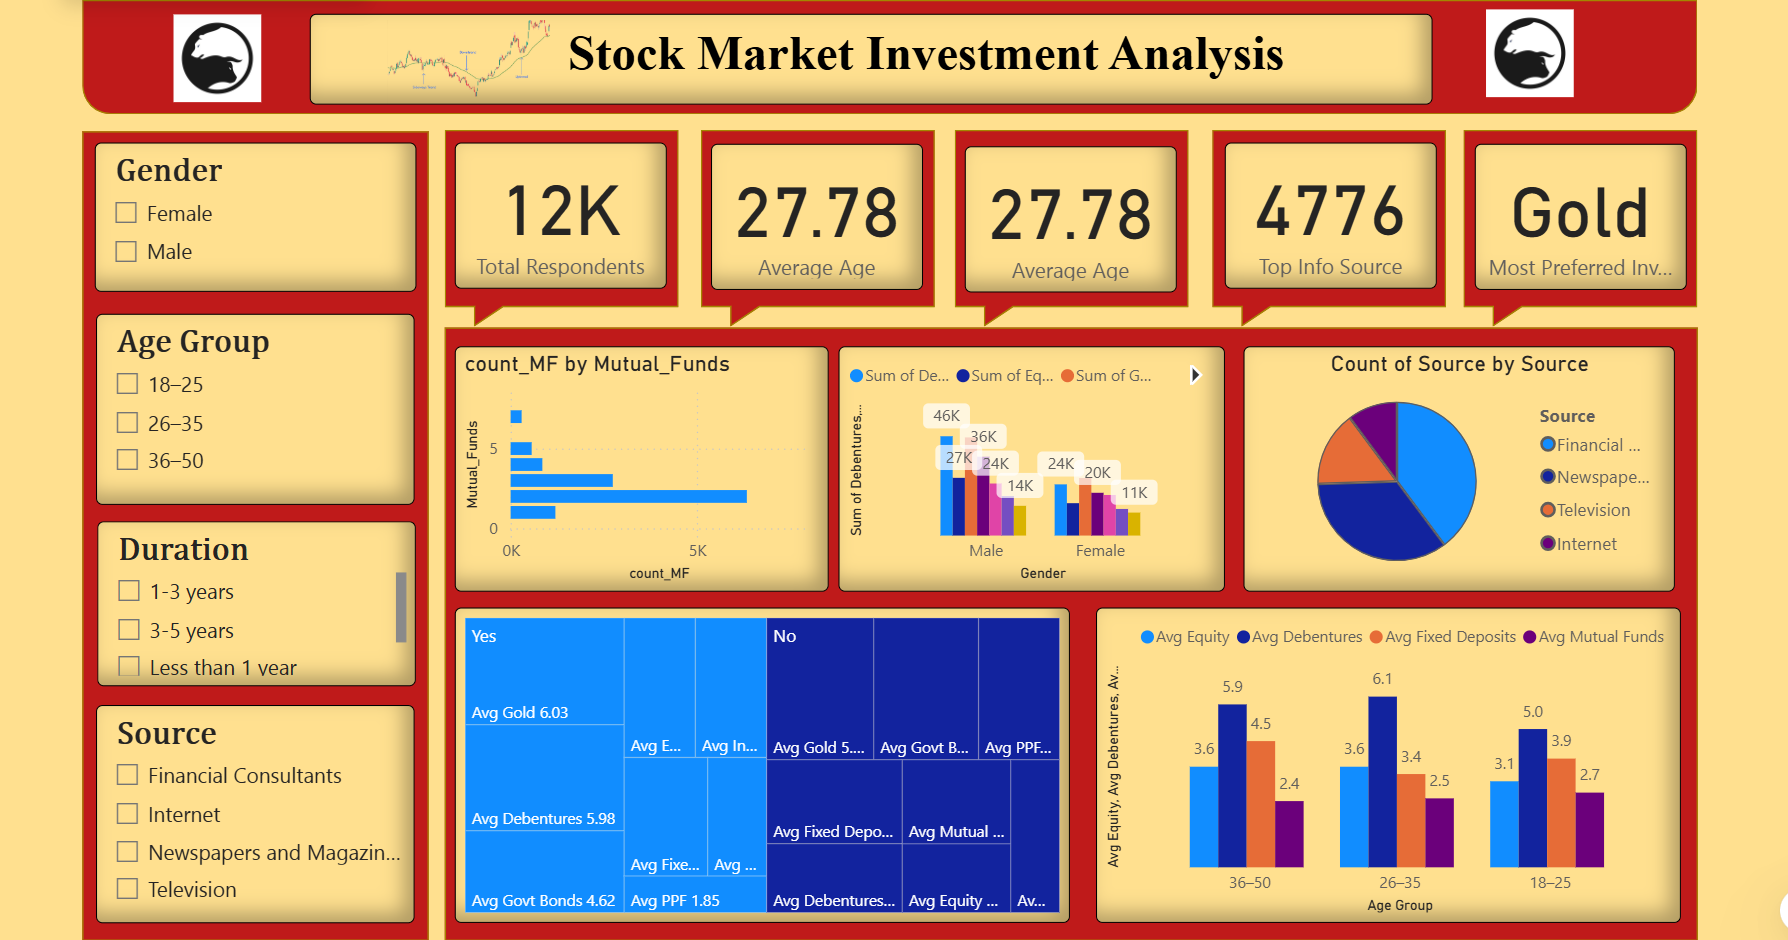

This screenshot's page, from the dashboard's own definition file:
{"tool":"powerbi","page":{"name":"Page 1","canvas":[1280,720],"ordinal":0},"visuals":[{"type":"shape","box":[297.5,250.4,959.9,469.8],"z":0},{"type":"shape","box":[20.2,0,1237.2,87.5],"z":1000},{"type":"shape","box":[494.1,99.6,179,150.8],"z":2000},{"type":"shape","box":[687.9,99.6,179,150.8],"z":3000},{"type":"shape","box":[885.8,99.6,179,150.8],"z":4000},{"type":"shape","box":[1078.3,99.6,179,150.8],"z":5000},{"type":"shape","box":[297.5,99.6,179,150.8],"z":6000},{"type":"textbox","box":[194.2,10.9,860.2,70],"z":7000},{"type":"image","box":[85.7,3.6,77.2,80.8],"z":8000},{"type":"image","box":[184.6,10.9,261.8,74.8],"z":9000},{"type":"shape","box":[20.5,100.1,265.4,620.1],"z":10000},{"type":"slicer","fields":{"Values":["Finance_Trends.Gender"]},"box":[29.5,109.2,246.7,114.2],"z":11000},{"type":"image","box":[1090.6,0,77.2,80.8],"z":12000},{"type":"slicer","fields":{"Values":["Finance_Trends.Age Group"]},"box":[30.7,240.6,244.3,146.1],"z":12001},{"type":"slicer","fields":{"Values":["Finance_Trends.Source"]},"box":[30.7,540.1,244.3,166.9],"z":12002},{"type":"slicer","fields":{"Values":["Finance_Trends.Duration"]},"box":[31.9,398.9,244.3,126.4],"z":12003},{"type":"card","fields":{"Values":["Finance_Trends.Total Respondents"]},"box":[305.6,109.2,162,111.7],"z":12004},{"type":"card","fields":{"Values":["Finance_Trends.Average Age"]},"box":[502,110.5,162,111.7],"z":12005},{"type":"card","fields":{"Values":["Finance_Trends.Average Age"]},"box":[696,111.7,162,111.7],"z":12006},{"type":"card","fields":{"Values":["Finance_Trends.Top Info Source"]},"box":[894.8,109.2,162,111.7],"z":12007},{"type":"card","fields":{"Values":["Finance_Trends.Most Preferred Investment Name"]},"box":[1086.3,110.5,162,111.7],"z":12008},{"type":"treemap","fields":{"Group":["Finance_Trends.Investment_Avenues"],"Values":["Finance_Trends.Avg Debentures","Finance_Trends.Avg Equity","Finance_Trends.Avg Fixed Deposits","Finance_Trends.Avg Gold","Finance_Trends.Avg Govt Bonds","Finance_Trends.Avg Investment by Age","Finance_Trends.Avg Mutual Funds","Finance_Trends.Avg PPF"]},"box":[305.6,465.2,471.3,241.8],"z":12009},{"type":"clusteredBarChart","fields":{"Category":["Finance_Trends.Mutual_Funds"],"Y":["Finance_Trends.count_MF"]},"box":[305.6,265.1,286,187.8],"z":12010},{"type":"pieChart","fields":{"Y":["CountNonNull(Finance_Trends.Source)"],"Category":["Finance_Trends.Source"]},"box":[909.6,265.1,330.2,187.8],"z":12011},{"type":"lineClusteredColumnComboChart","fields":{"Category":["Finance_Trends.Gender"],"Y":["Sum(Finance_Trends.Debentures)","Sum(Finance_Trends.Equity_Market)","Sum(Finance_Trends.Gold)","Sum(Finance_Trends.Government_Bonds)","Sum(Finance_Trends.Fixed_Deposits)","Sum(Finance_Trends.Mutual_Funds)","Sum(Finance_Trends.PPF)"]},"box":[599,265.1,295.8,187.8],"z":12012},{"type":"clusteredColumnChart","fields":{"Category":["Finance_Trends.Age Group"],"Y":["Finance_Trends.Avg Equity","Finance_Trends.Avg Debentures","Finance_Trends.Avg Fixed Deposits","Finance_Trends.Avg Mutual Funds"]},"box":[796.6,465.2,448,241.8],"z":12013}]}

Visuals, with their boxes in screenshot pixels (x1, y1, x2, y2):
shape: [left=444, top=323, right=1680, bottom=928]
shape: [left=87, top=0, right=1680, bottom=113]
shape: [left=697, top=128, right=928, bottom=323]
shape: [left=947, top=128, right=1177, bottom=323]
shape: [left=1202, top=128, right=1432, bottom=323]
shape: [left=1450, top=128, right=1680, bottom=323]
shape: [left=444, top=128, right=674, bottom=323]
textbox: [left=311, top=14, right=1419, bottom=104]
image: [left=171, top=5, right=270, bottom=109]
image: [left=298, top=14, right=636, bottom=110]
shape: [left=87, top=129, right=429, bottom=928]
slicer - Finance_Trends.Gender: [left=99, top=141, right=416, bottom=288]
image: [left=1466, top=0, right=1565, bottom=104]
slicer - Finance_Trends.Age Group: [left=100, top=310, right=415, bottom=498]
slicer - Finance_Trends.Source: [left=100, top=696, right=415, bottom=911]
slicer - Finance_Trends.Duration: [left=102, top=514, right=416, bottom=677]
card - Finance_Trends.Total Respondents: [left=454, top=141, right=663, bottom=285]
card - Finance_Trends.Average Age: [left=707, top=142, right=916, bottom=286]
card - Finance_Trends.Average Age: [left=957, top=144, right=1166, bottom=288]
card - Finance_Trends.Top Info Source: [left=1213, top=141, right=1422, bottom=285]
card - Finance_Trends.Most Preferred Investment Name: [left=1460, top=142, right=1669, bottom=286]
treemap - Finance_Trends.Investment_Avenues x Finance_Trends.Avg Debentures: [left=454, top=599, right=1061, bottom=911]
clusteredBarChart - Finance_Trends.Mutual_Funds x Finance_Trends.count_MF: [left=454, top=342, right=823, bottom=583]
pieChart - CountNonNull(Finance_Trends.Source) x Finance_Trends.Source: [left=1232, top=342, right=1658, bottom=583]
lineClusteredColumnComboChart - Finance_Trends.Gender x Sum(Finance_Trends.Debentures): [left=832, top=342, right=1213, bottom=583]
clusteredColumnChart - Finance_Trends.Age Group x Finance_Trends.Avg Equity: [left=1087, top=599, right=1664, bottom=911]
